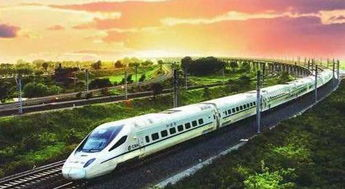hsrw: (63, 70, 337, 181)
